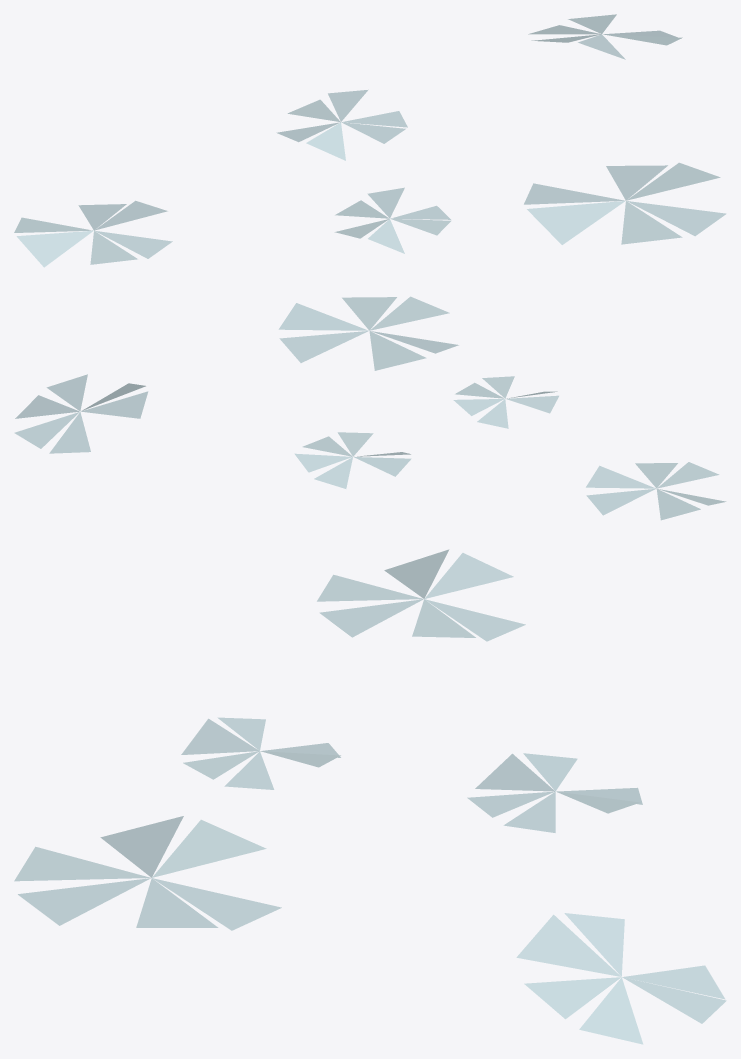
Rendered from Woods-flower2.fbx.
3 views of the same model, one above another, from view 1: azimuth 30°, elevation 25°; view 2: azimuth 150°, elevation 25°; view 3: azimuth 270°, elevation 25° (orthographic). The views are drawn at different scales.
Visible parts, largest first — view 1: pPlane24; view 2: pPlane24; view 3: pPlane24.
Boxes of the visible parts, bbox=[...] form: pPlane24: bbox=[14, 14, 726, 267]; pPlane24: bbox=[14, 296, 726, 520]; pPlane24: bbox=[14, 549, 726, 1044].
Bounding box in the file's own units: 9.01 × 0.4945 × 5.83.
